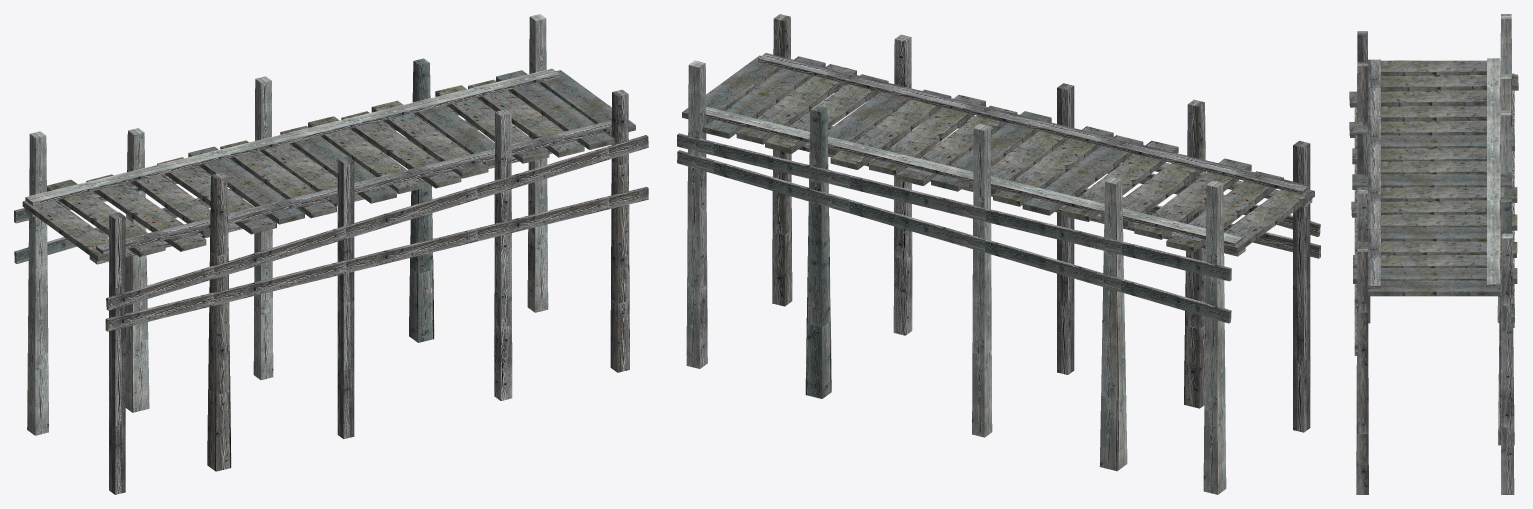
Rendered from open-jetty.glb.
3 renders of one model, left to right at view 1: azimuth 30°, elevation 25°; view 2: azimuth 150°, elevation 25°; view 3: azimuth 270°, elevation 25°, orthographic. The views are drawn at different scales.
Parts seen in each view (by area): view 1: $ColladaAutoName$_0; view 2: $ColladaAutoName$_0; view 3: $ColladaAutoName$_0.
Boxes of the visible parts, x1,y1,x2,y2 form: $ColladaAutoName$_0: [14, 14, 648, 494]; $ColladaAutoName$_0: [677, 14, 1320, 494]; $ColladaAutoName$_0: [1349, 14, 1518, 494].
Size of the model in its own units: 12.88 by 6.71 by 3.95.
Materials: 2 (2 with a texture image).
